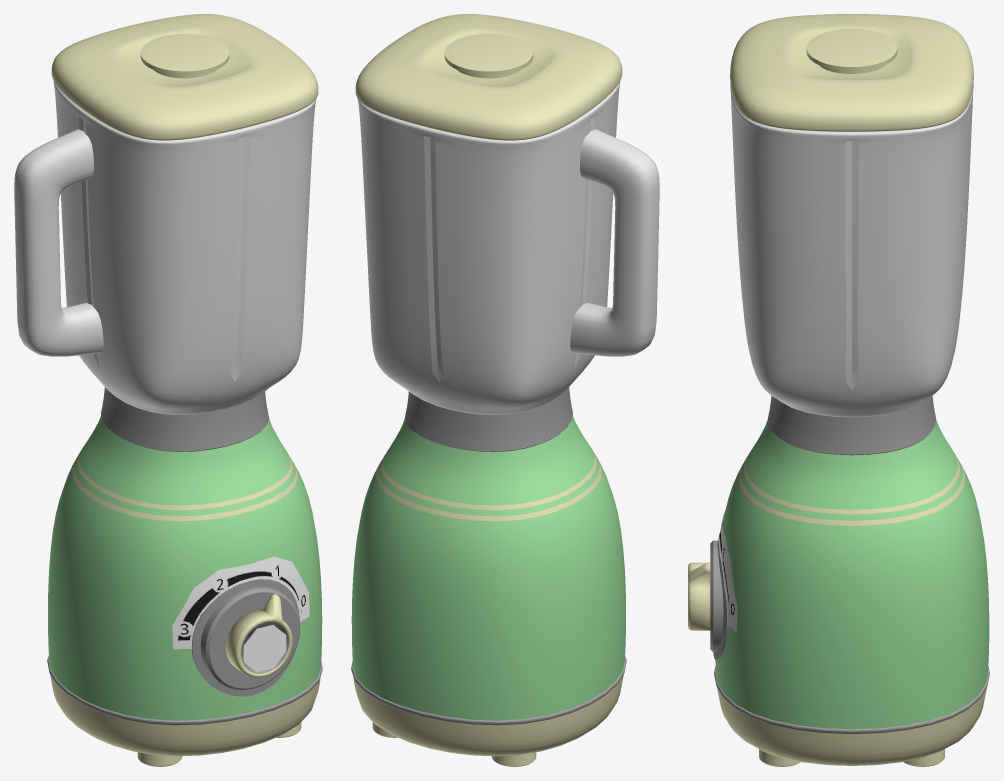
The model's file is Blender.fbx.
3 views of the same model, side by side, from view 1: azimuth 30°, elevation 25°; view 2: azimuth 150°, elevation 25°; view 3: azimuth 270°, elevation 25° (orthographic). The views are drawn at different scales.
Visible parts, largest first — view 1: Cube.003, Cube.005, Cube.002, Cube.001, Cylinder, Plane.001, Cylinder.001, Cylinder.004, Cylinder.002, Cube.006, Plane.002, Cylinder.003; view 2: Cube.003, Cube.005, Cube.002, Cube.001, Cylinder.001, Cube.006, Cylinder.003; view 3: Cube.003, Cube.005, Cube.002, Cylinder.001, Cube.006, Cylinder.004, Cylinder, Plane.001, Cylinder.003, Cylinder.002.
Boxes of the visible parts, left/top/right/bottom form: Cube.003: left=48, top=387, right=322, bottom=756; Cube.005: left=53, top=81, right=316, bottom=414; Cube.002: left=51, top=14, right=318, bottom=140; Cube.001: left=14, top=129, right=103, bottom=356; Cylinder: left=200, top=586, right=300, bottom=689; Plane.001: left=172, top=556, right=309, bottom=649; Cylinder.001: left=140, top=34, right=229, bottom=78; Cylinder.004: left=225, top=594, right=292, bottom=677; Cylinder.002: left=191, top=579, right=299, bottom=696; Cube.006: left=47, top=656, right=322, bottom=725; Plane.002: left=243, top=624, right=286, bottom=672; Cylinder.003: left=137, top=722, right=301, bottom=766; Cube.003: left=351, top=387, right=625, bottom=756; Cube.005: left=357, top=81, right=620, bottom=414; Cube.002: left=355, top=14, right=622, bottom=140; Cube.001: left=570, top=129, right=659, bottom=356; Cylinder.001: left=444, top=34, right=533, bottom=78; Cube.006: left=351, top=656, right=626, bottom=725; Cylinder.003: left=372, top=722, right=536, bottom=766; Cube.003: left=715, top=395, right=989, bottom=765; Cube.005: left=730, top=86, right=973, bottom=417; Cube.002: left=730, top=14, right=973, bottom=131; Cylinder.001: left=806, top=28, right=897, bottom=73; Cube.006: left=714, top=666, right=989, bottom=733; Cylinder.004: left=688, top=562, right=710, bottom=630; Cylinder: left=710, top=540, right=723, bottom=652; Plane.001: left=719, top=511, right=737, bottom=631; Cylinder.003: left=759, top=749, right=944, bottom=766; Cylinder.002: left=713, top=533, right=728, bottom=659.
Size of the model in its own units: 247 by 556 by 223.
